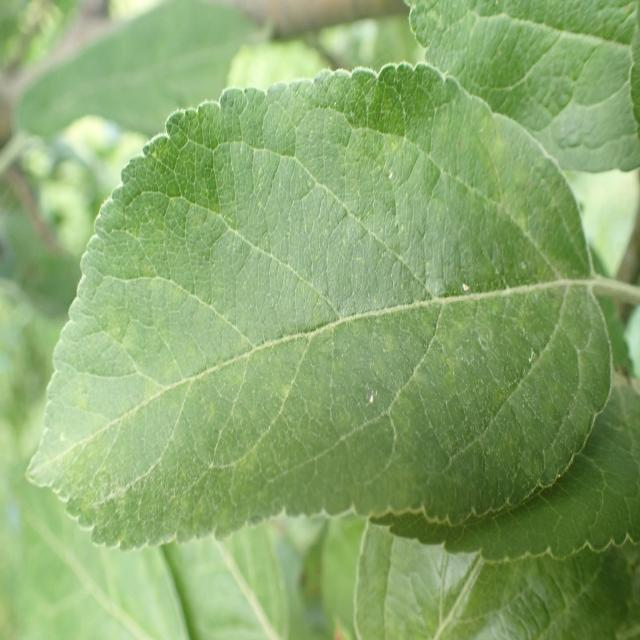scab: (29, 146, 594, 498)
